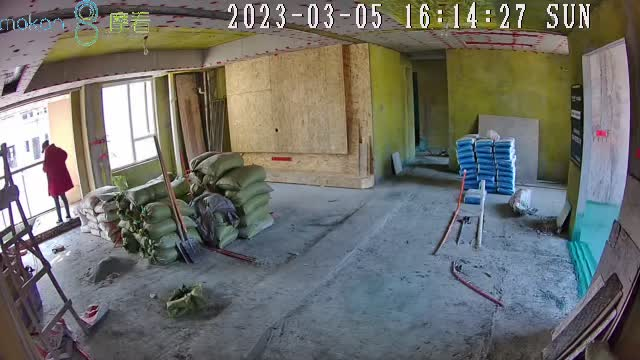people: (41, 139, 72, 224)
window: (2, 108, 51, 227), (99, 77, 161, 171)
